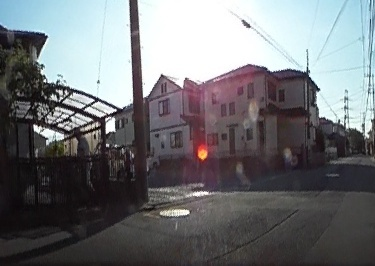person: (71, 126, 95, 193)
